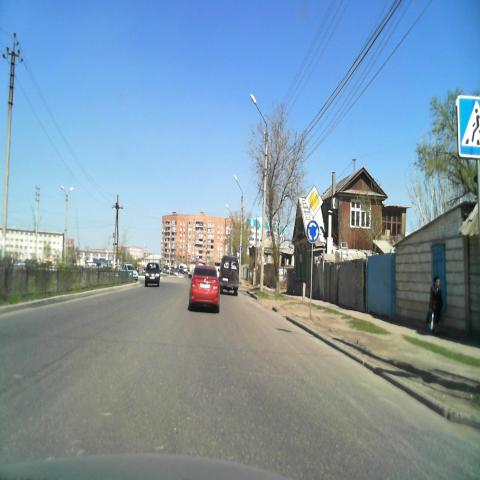2_2: (304, 185, 323, 217)
4_3: (306, 219, 320, 244)
